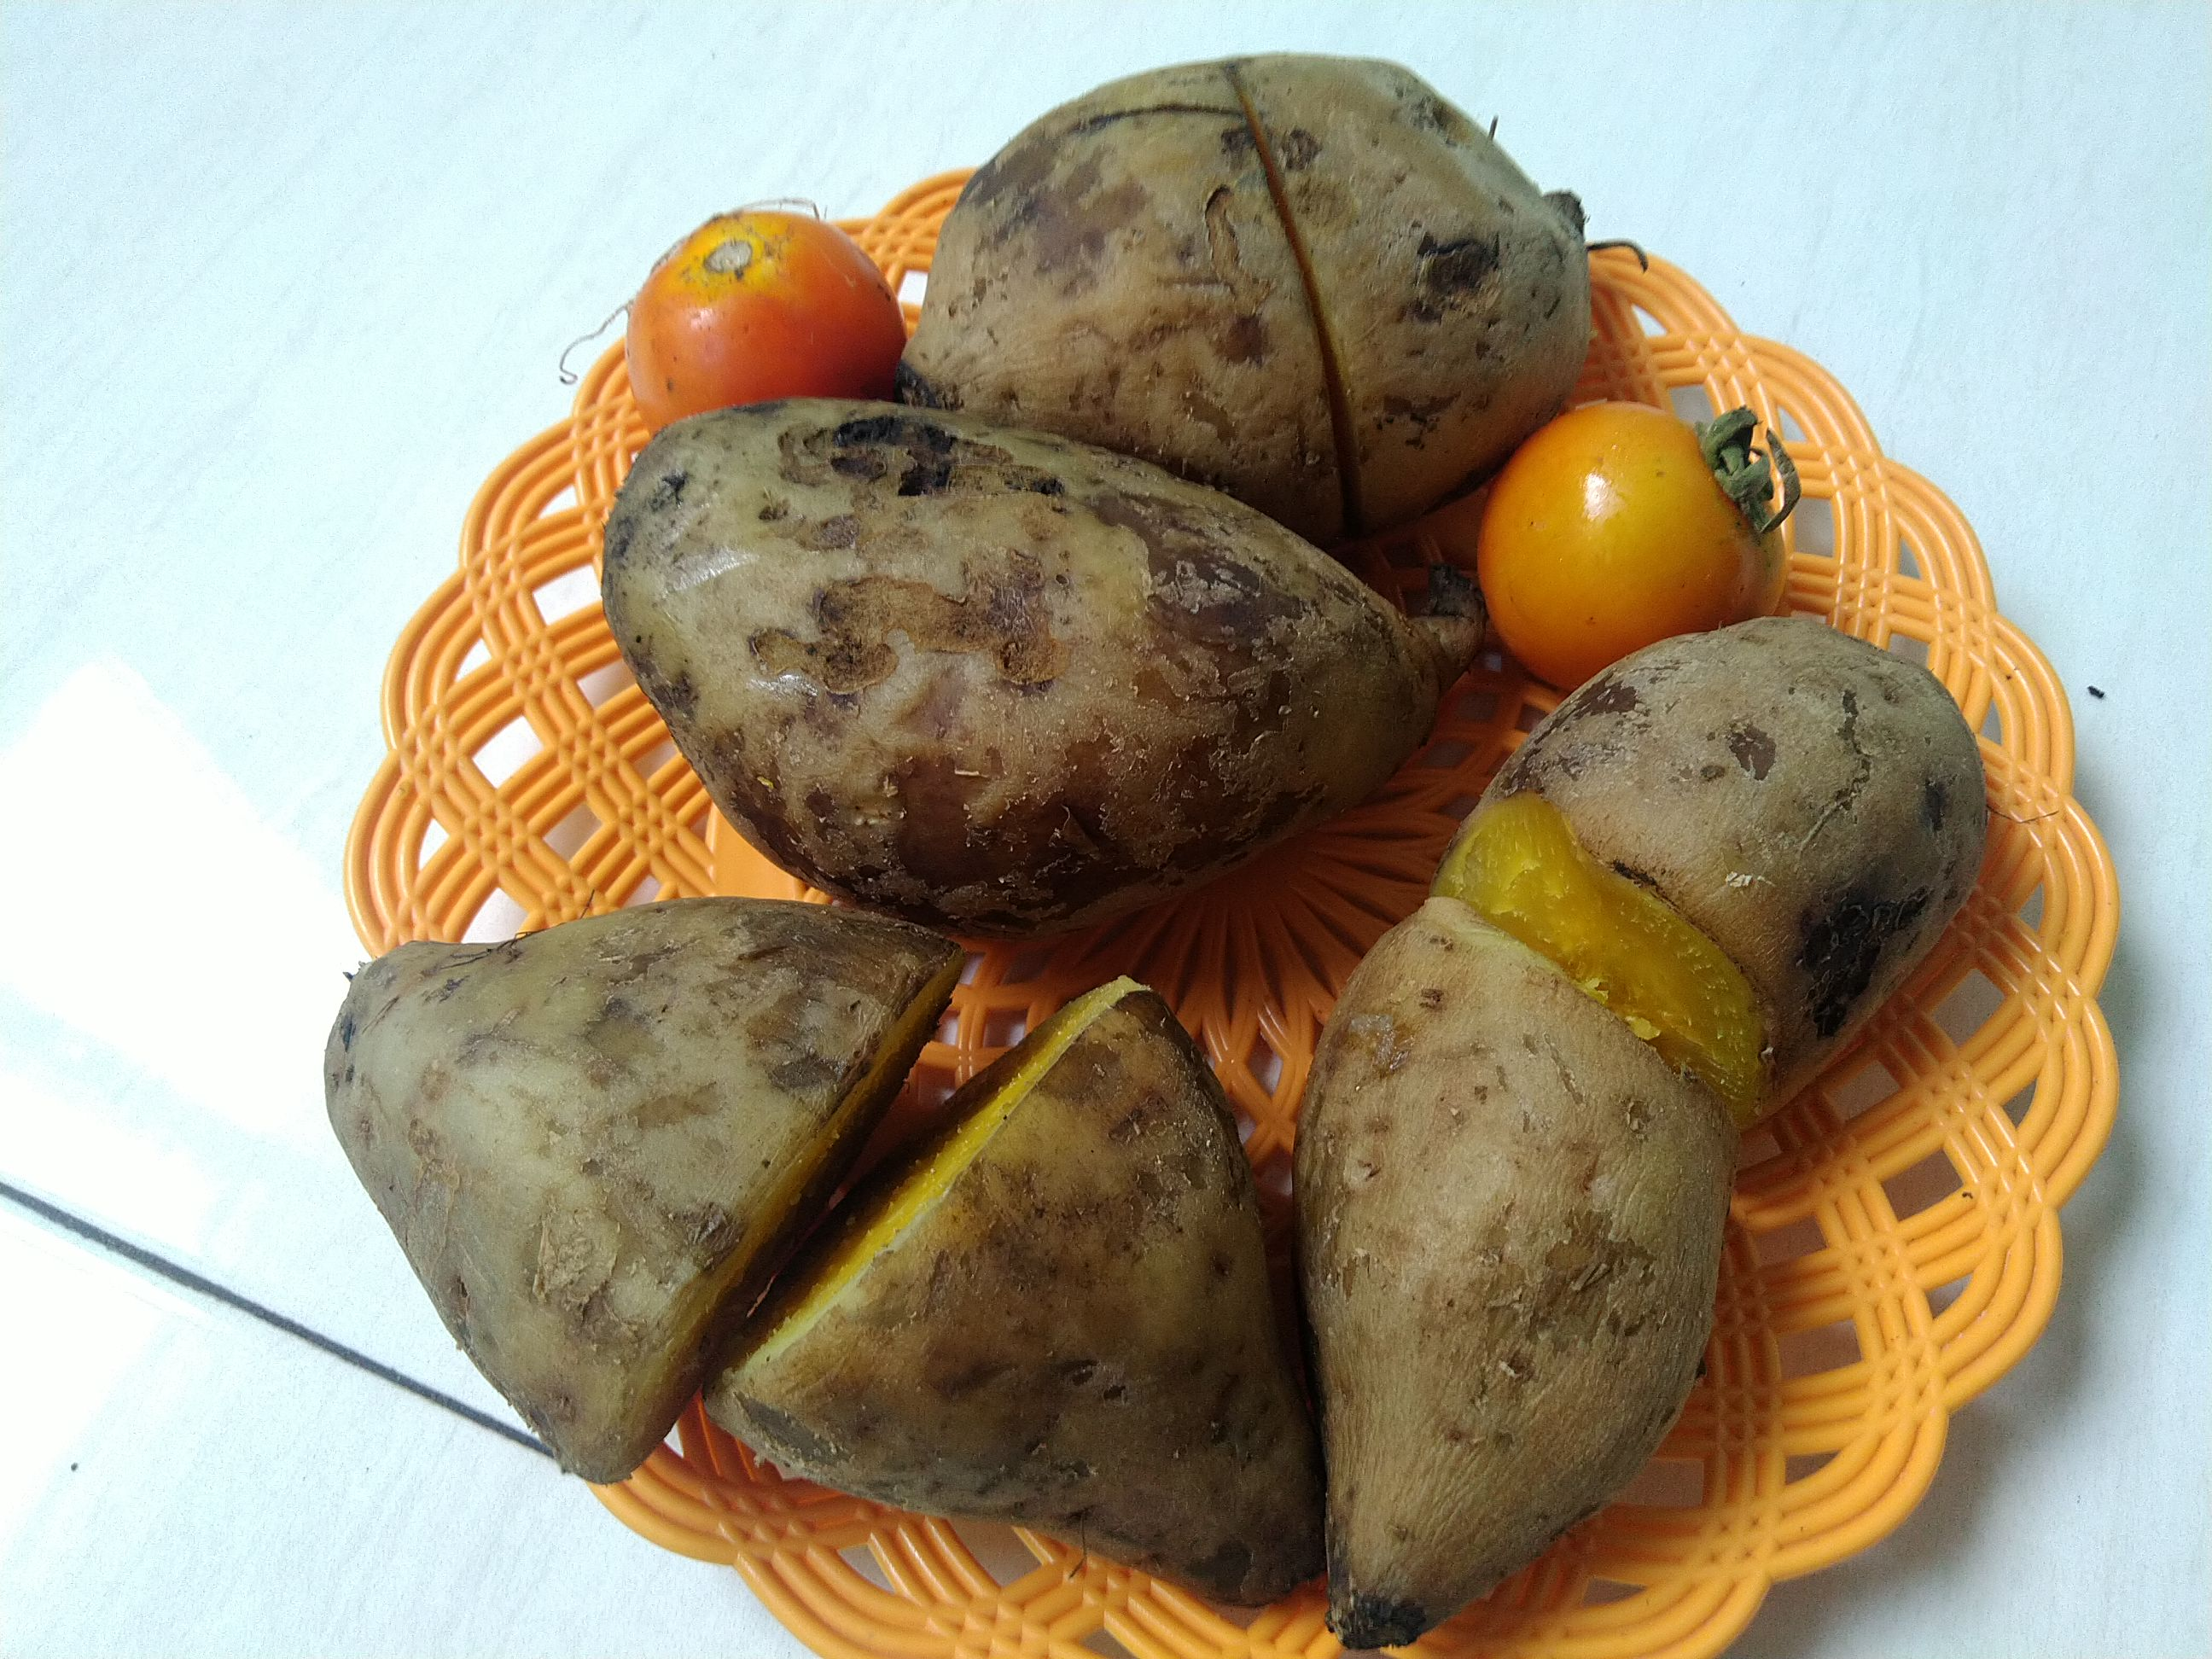ubi kuning: (592, 397, 1477, 934), (298, 873, 953, 1499), (704, 965, 1331, 1614), (1400, 603, 2034, 1107), (904, 49, 1592, 481), (1322, 920, 1726, 1650)
